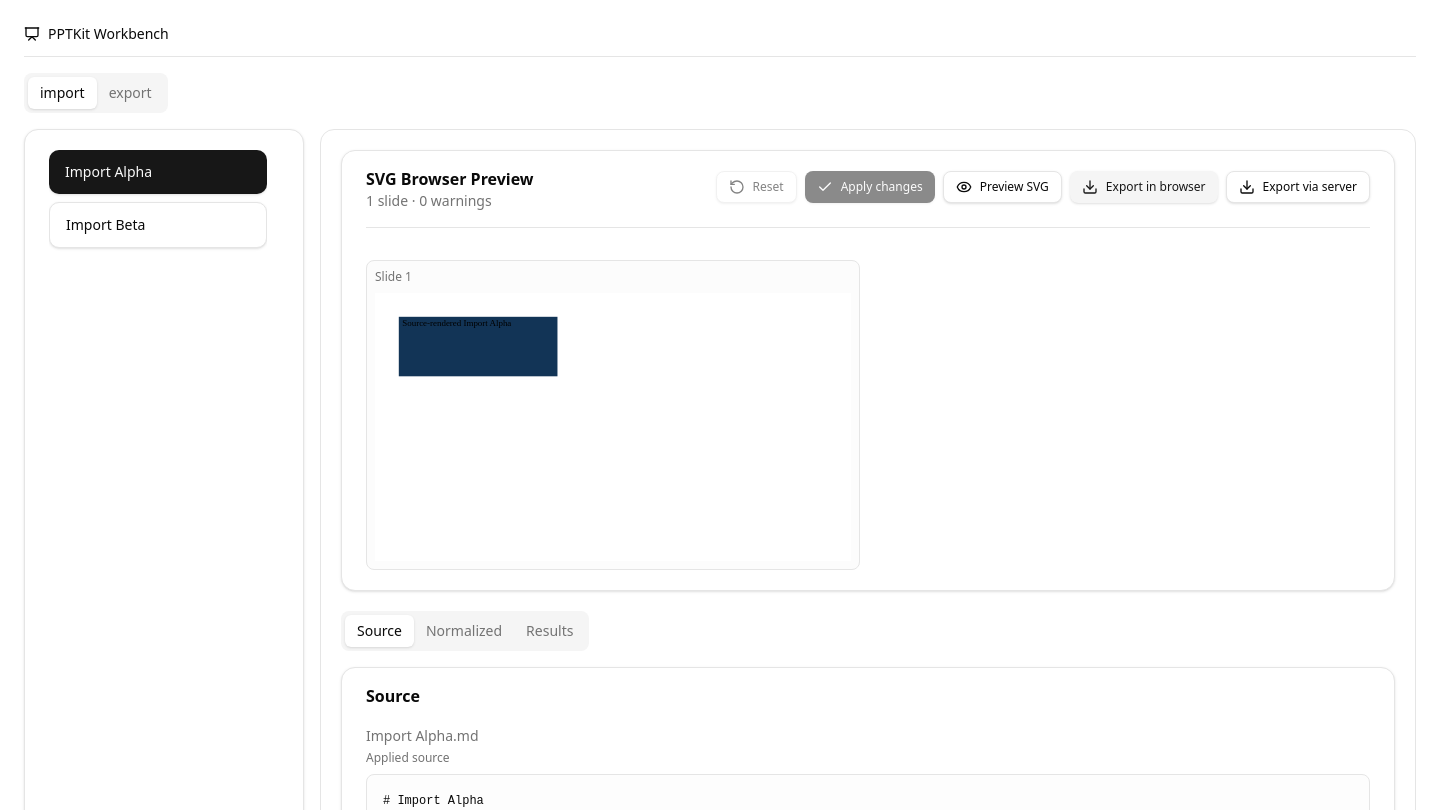
Test case: workbench app › loads the default example and updates when feature and example selections change
The width and height of the screenshot is (1440, 810).
Expected: the text "PPTKit Workbench" is shown, x1=24 y1=24 x2=1416 y2=57
Step 1. Click the button "Import Beta" → (158, 225), box x1=49 y1=202 x2=267 y2=248
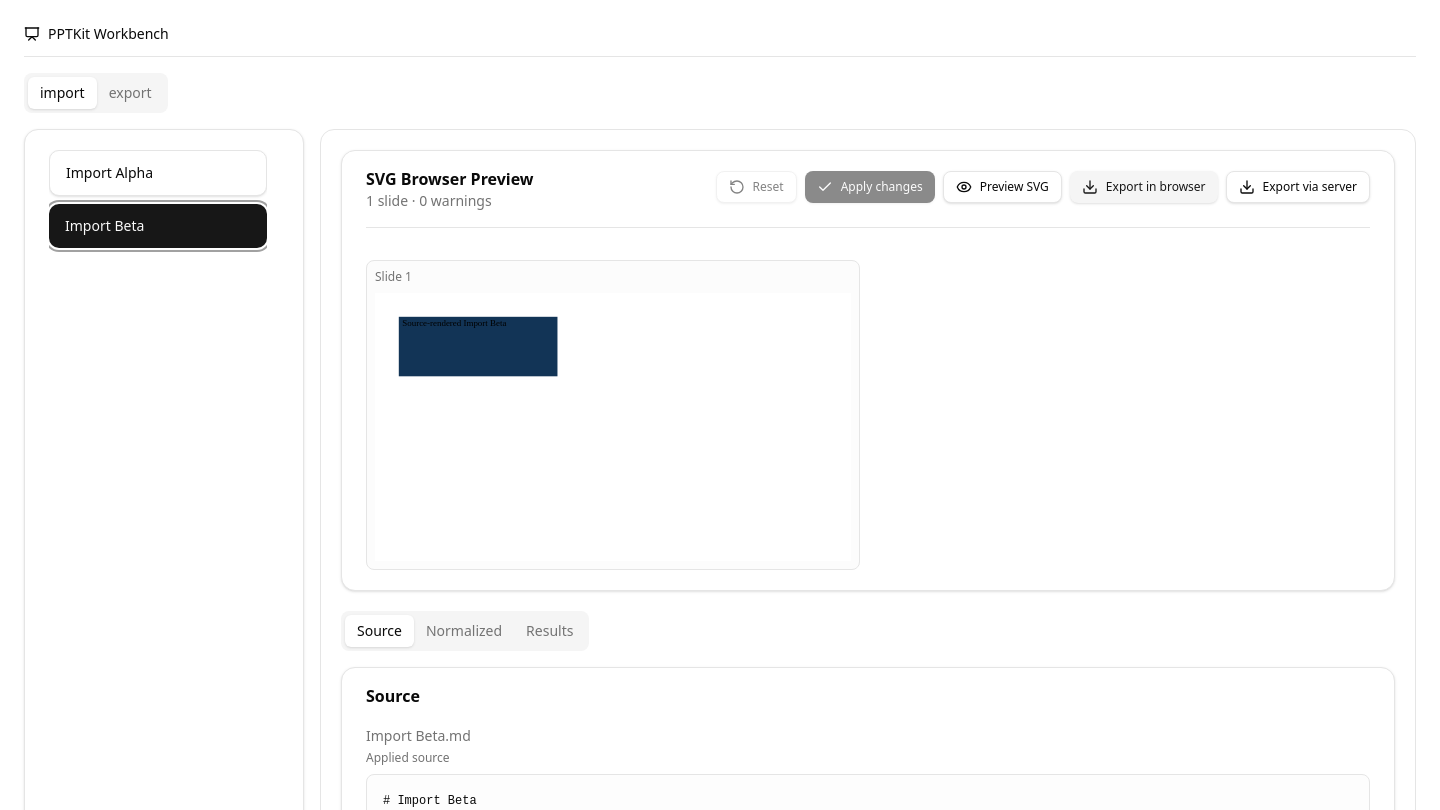
Expected: the picture "Source-rendered Import Beta" is shown, x1=375 y1=293 x2=851 y2=561
Step 2. Click the tab "export" → (130, 93), box x1=97 y1=77 x2=164 y2=109
(page scrolled)
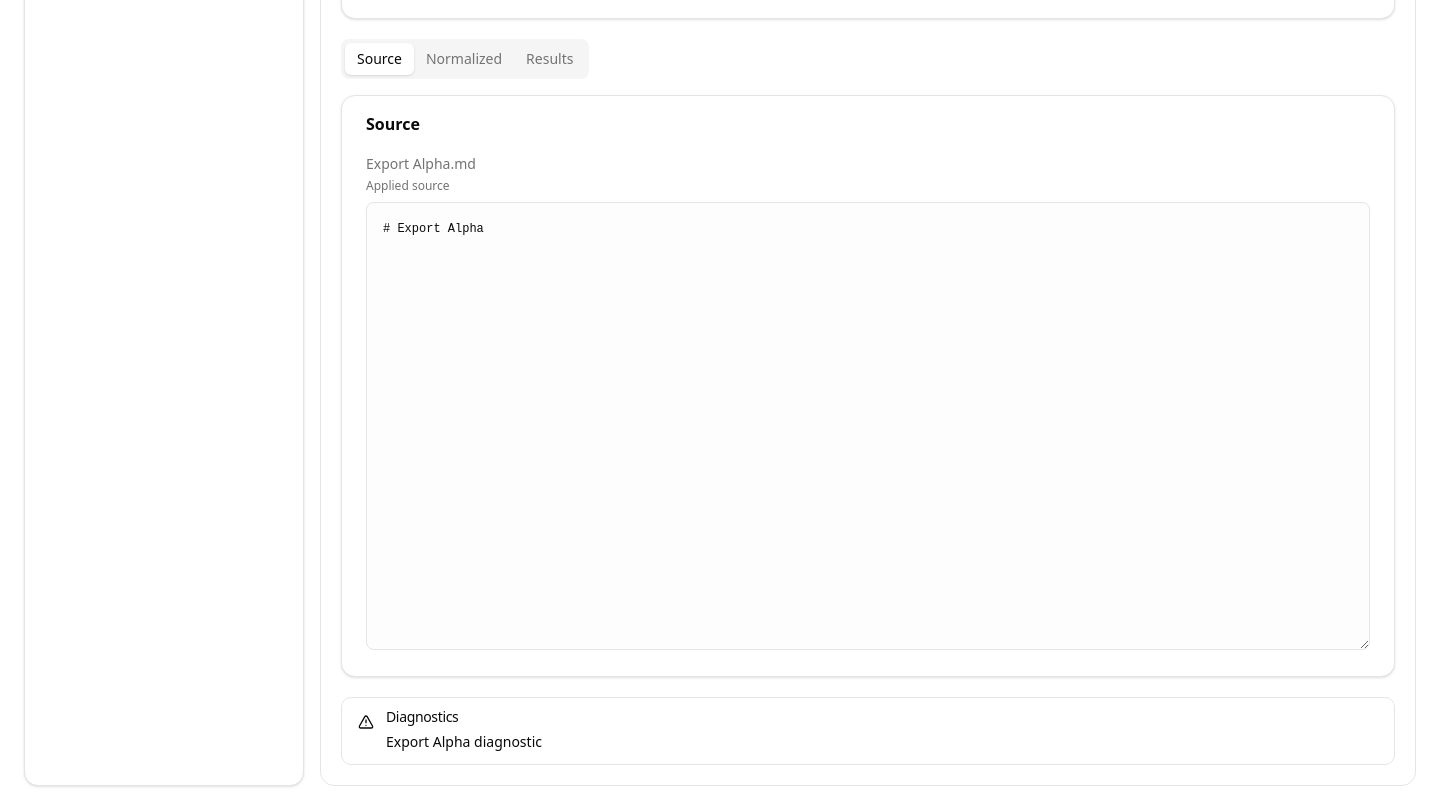
Now the text box named "Export Alpha.md" is shown, box x1=366 y1=202 x2=1370 y2=650
Now the list item "Export Alpha diagnostic" is shown, box x1=386 y1=732 x2=542 y2=751
